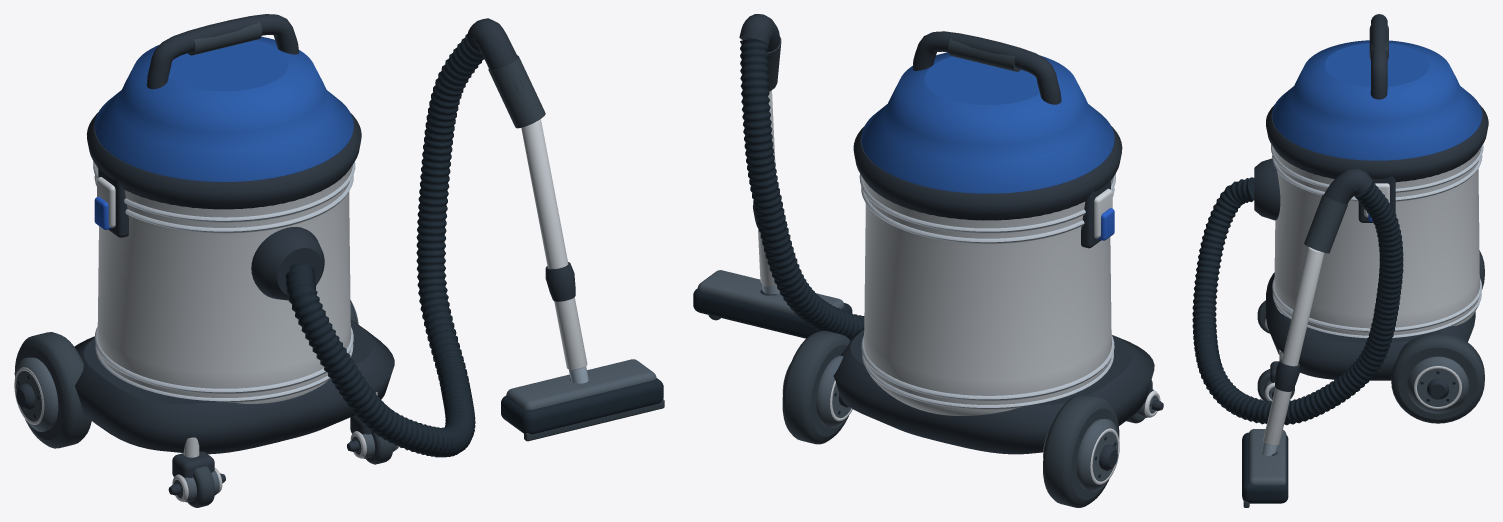
File: construction-vacuum.glb
3 views of the same model, side by side, from view 1: azimuth 30°, elevation 25°; view 2: azimuth 150°, elevation 25°; view 3: azimuth 270°, elevation 25° (orthographic). The views are drawn at different scales.
Visible parts, largest first — view 1: Assembly • Nickel, Assembly • Graphite, Assembly • Molded blue, Assembly • Carbon, Assembly • Soft rubber, Assembly • Slate, Assembly • Steel; view 2: Assembly • Nickel, Assembly • Molded blue, Assembly • Graphite, Assembly • Carbon, Assembly • Soft rubber, Assembly • Steel, Assembly • Slate; view 3: Assembly • Nickel, Assembly • Molded blue, Assembly • Carbon, Assembly • Graphite, Assembly • Soft rubber, Assembly • Slate, Assembly • Steel.
Part boxes in pixels (x1,y1,x2,y2): Assembly • Nickel: [14, 119, 587, 502]; Assembly • Graphite: [16, 14, 575, 495]; Assembly • Molded blue: [94, 36, 353, 181]; Assembly • Carbon: [17, 34, 663, 497]; Assembly • Soft rubber: [14, 21, 664, 507]; Assembly • Slate: [16, 302, 656, 502]; Assembly • Steel: [93, 161, 355, 402]; Assembly • Nickel: [758, 90, 1160, 484]; Assembly • Molded blue: [861, 52, 1114, 193]; Assembly • Graphite: [739, 14, 1163, 470]; Assembly • Carbon: [693, 39, 1158, 477]; Assembly • Soft rubber: [708, 37, 1144, 507]; Assembly • Steel: [859, 174, 1115, 409]; Assembly • Slate: [697, 270, 1158, 491]; Assembly • Nickel: [1263, 146, 1481, 445]; Assembly • Molded blue: [1272, 40, 1482, 160]; Assembly • Carbon: [1192, 177, 1455, 503]; Assembly • Graphite: [1254, 14, 1488, 456]; Assembly • Soft rubber: [1243, 24, 1484, 507]; Assembly • Slate: [1248, 314, 1468, 485]; Assembly • Steel: [1271, 144, 1483, 338].
Size of the model in its own units: 1.16 by 0.8707 by 0.6961.
